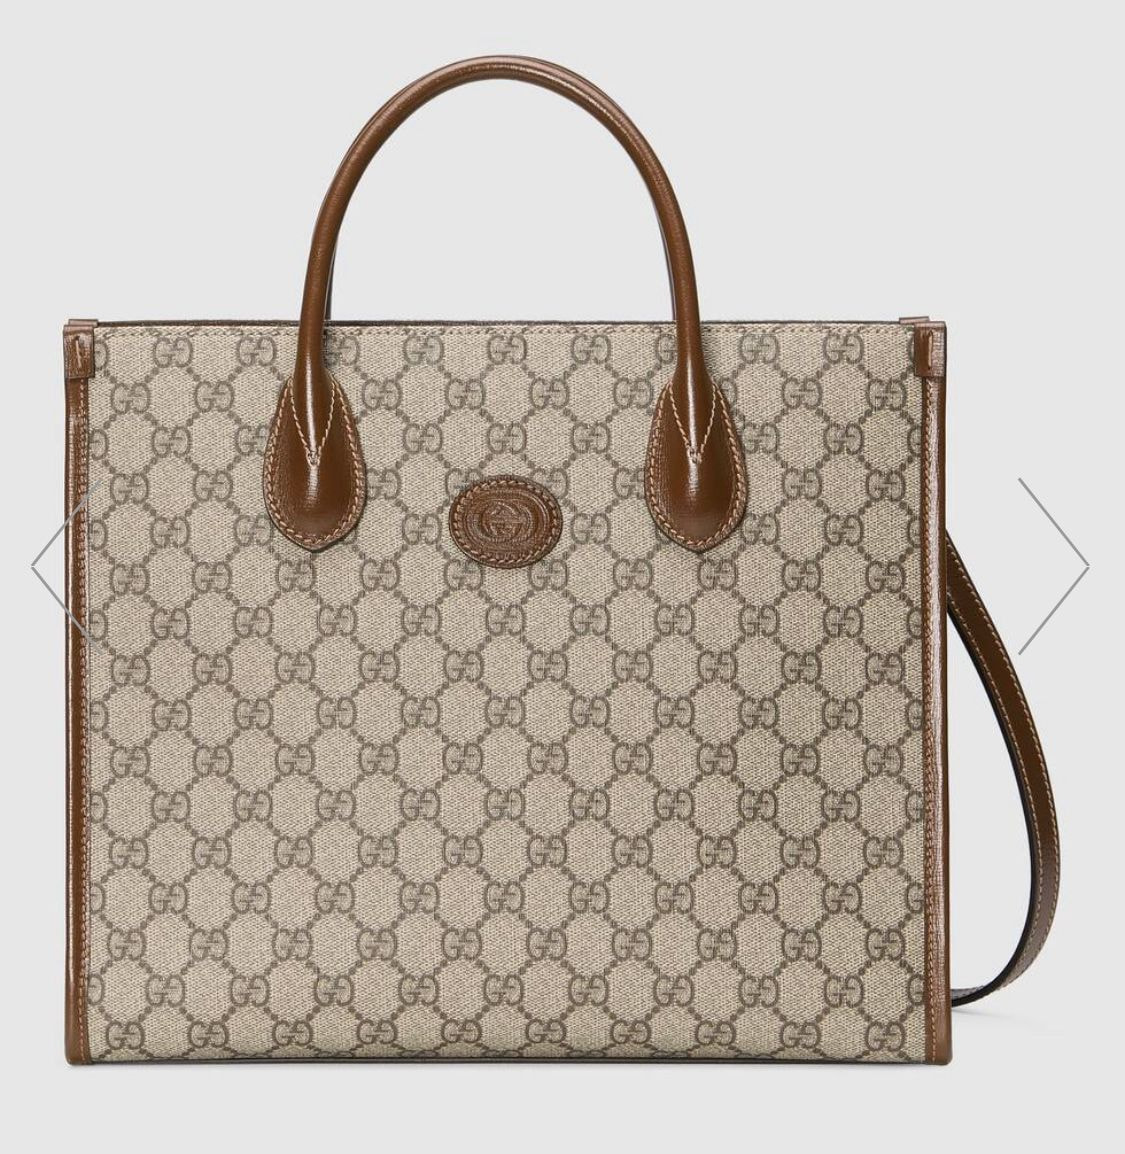Gucci: (45, 263, 1041, 1089), (195, 588, 956, 1015)
